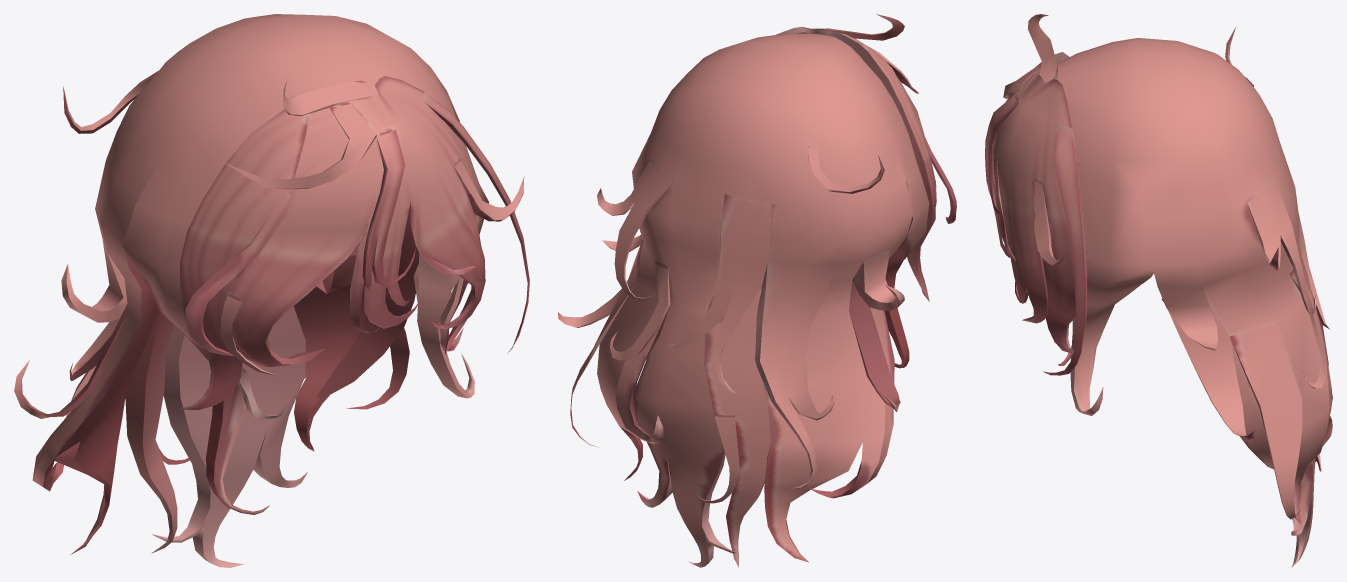
File: otohikos_custom_hair_source.glb
The picture shows the model from 3 angles, left to right: view 1: azimuth 30°, elevation 25°; view 2: azimuth 150°, elevation 25°; view 3: azimuth 270°, elevation 25°; orthographic projection. The views are drawn at different scales.
Parts seen in each view (by area): view 1: Bb_KugelOtohikoGeo; view 2: Bb_KugelOtohikoGeo; view 3: Bb_KugelOtohikoGeo.
Boxes of the visible parts, bbox=[...] form: Bb_KugelOtohikoGeo: bbox=[14, 14, 529, 567]; Bb_KugelOtohikoGeo: bbox=[558, 14, 956, 567]; Bb_KugelOtohikoGeo: bbox=[985, 14, 1332, 567].
Bounding box in the file's own units: 0.3367 × 0.4598 × 0.2815.
1 material, 1 textured.
